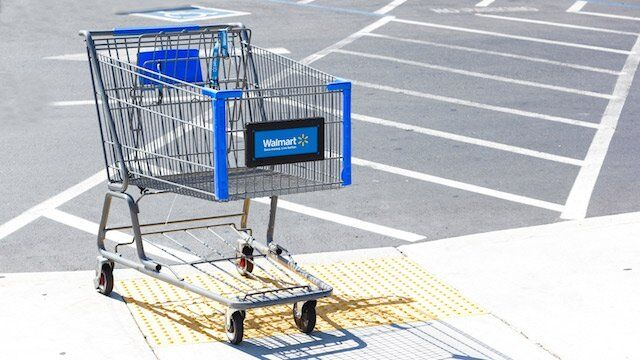shopping_cart: (78, 28, 366, 348)
